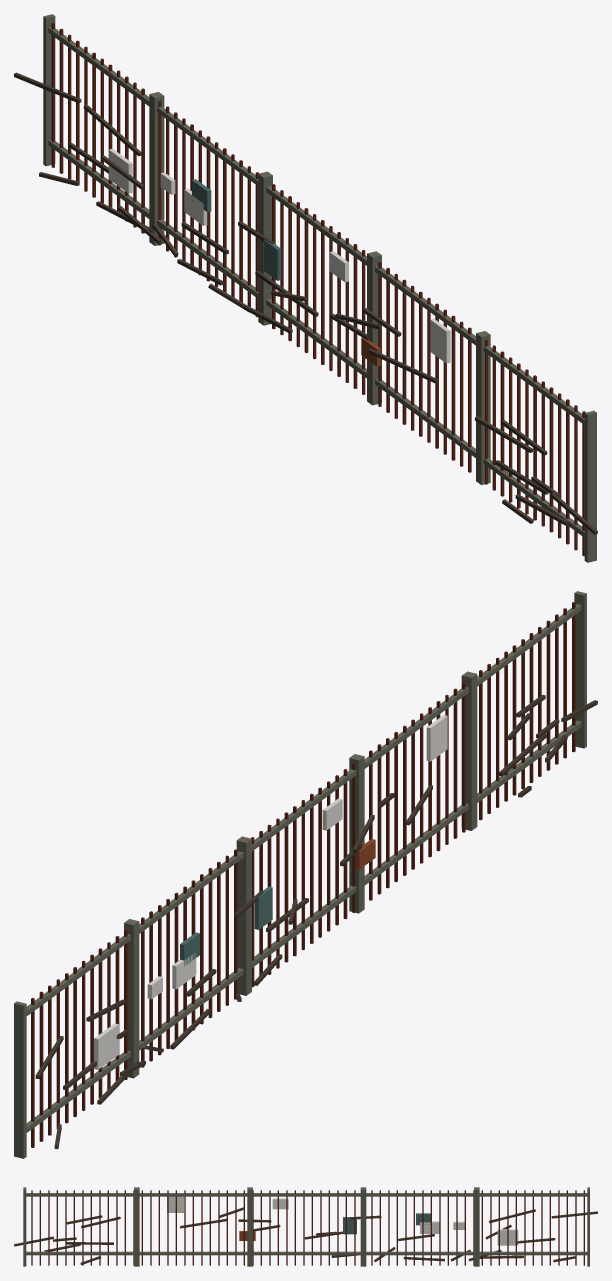
File: tunnel_rack.glb
3 views of the same model, one above another, from view 1: azimuth 30°, elevation 25°; view 2: azimuth 150°, elevation 25°; view 3: azimuth 270°, elevation 25° (orthographic). The views are drawn at different scales.
Parts seen in each view (by area): view 1: tunnel_rack_rustbar, tunnel_rack_steel, tunnel_rack_wood_d, tunnel_rack_white, tunnel_rack_blue; view 2: tunnel_rack_rustbar, tunnel_rack_steel, tunnel_rack_wood_d, tunnel_rack_white, tunnel_rack_blue; view 3: tunnel_rack_rustbar, tunnel_rack_steel, tunnel_rack_wood_d, tunnel_rack_white, tunnel_rack_blue.
Boxes of the visible parts, <box> form: tunnel_rack_rustbar: <box>51,22,585,556</box>; tunnel_rack_steel: <box>43,14,596,562</box>; tunnel_rack_wood_d: <box>14,72,597,534</box>; tunnel_rack_white: <box>109,148,450,363</box>; tunnel_rack_blue: <box>192,179,281,280</box>; tunnel_rack_rustbar: <box>31,602,575,1147</box>; tunnel_rack_steel: <box>14,591,586,1158</box>; tunnel_rack_wood_d: <box>35,695,597,1149</box>; tunnel_rack_white: <box>94,715,447,1069</box>; tunnel_rack_blue: <box>180,886,272,966</box>; tunnel_rack_rustbar: <box>31,1190,584,1265</box>; tunnel_rack_steel: <box>23,1187,589,1266</box>; tunnel_rack_wood_d: <box>14,1207,597,1264</box>; tunnel_rack_white: <box>167,1196,518,1245</box>; tunnel_rack_blue: <box>343,1213,430,1234</box>.
Bounding box in the file's own units: 0.4249 × 1.81 × 12.37.
